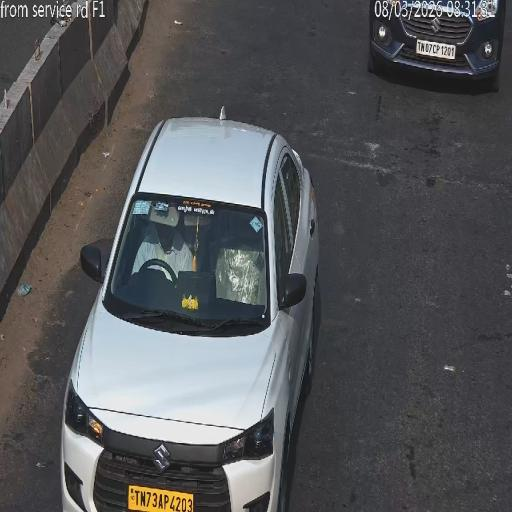person_with_seatbelt: (148, 221, 172, 282)
